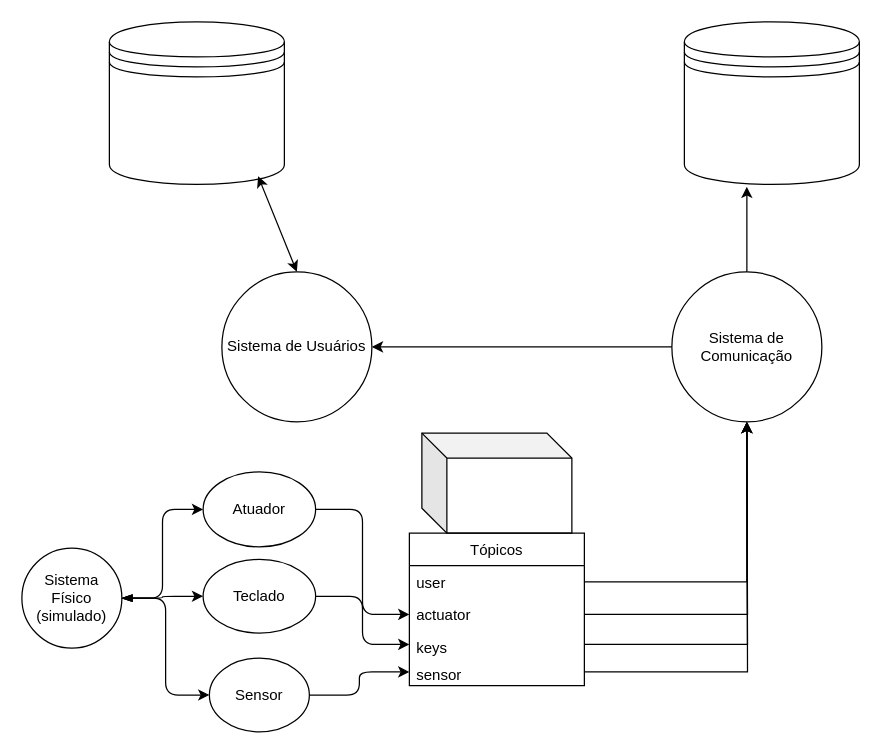
The diagram is 881 pixels wide and 754 high, and some of its shapes have lost their labels. Each missing label, with the centre of its shape:
"InfluxDB" goes at [771,102].
"PostgreSQL" goes at [196,102].
"Servidor MQTT" goes at [496,482].
